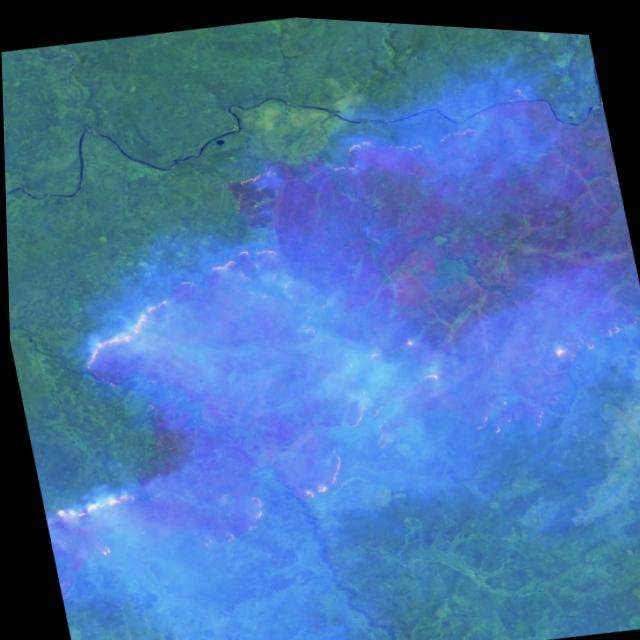fire: (4, 162, 640, 605)
